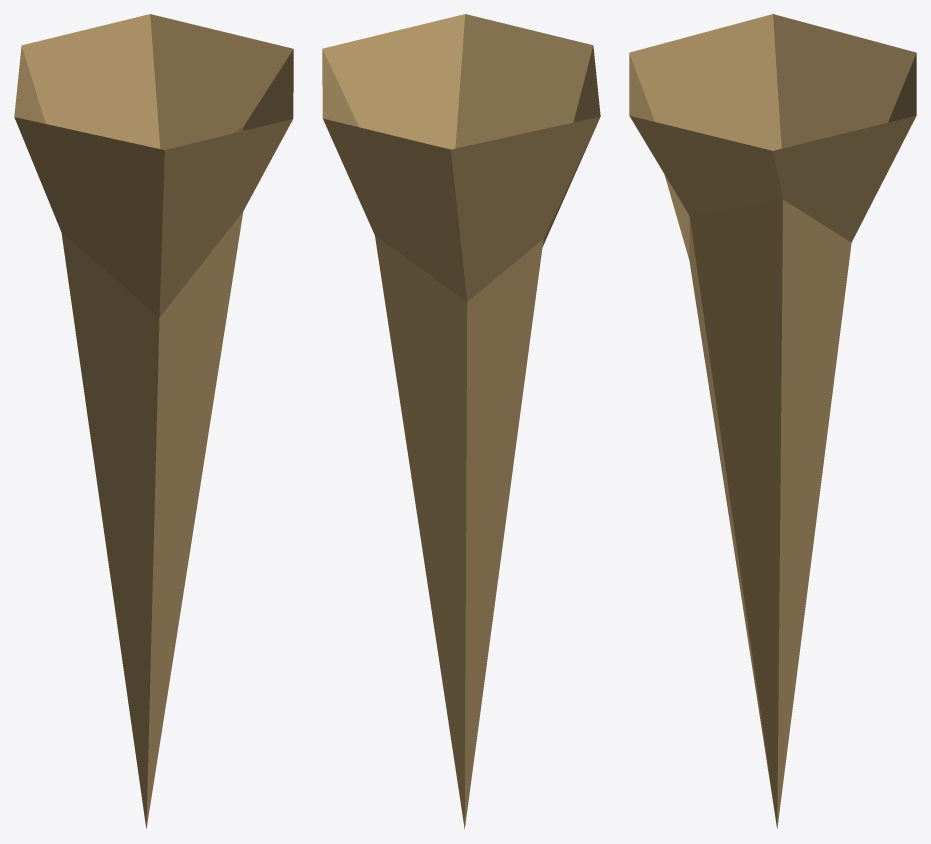
File: Stalacmite-B01.fbx
The picture shows the model from 3 angles, left to right: view 1: azimuth 30°, elevation 25°; view 2: azimuth 150°, elevation 25°; view 3: azimuth 270°, elevation 25°; orthographic projection.
Parts seen in each view (by area): view 1: Stalacmite-B01; view 2: Stalacmite-B01; view 3: Stalacmite-B01.
Part boxes in pixels (x1,y1,x2,y2): Stalacmite-B01: (14,14,293,829); Stalacmite-B01: (322,14,600,829); Stalacmite-B01: (629,14,916,828).
Size of the model in its own units: 64.15 by 164 by 56.91.
